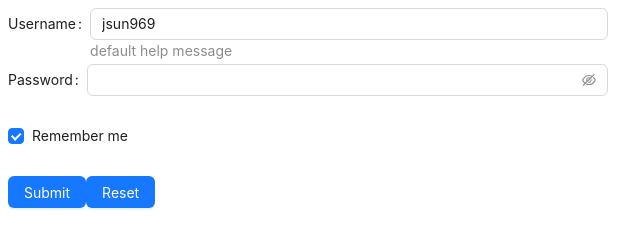
Test: Form › should show error message when username is too long
Type "looooooooooooooooong" into the field labelled "Username" at (349, 24), box [90, 8, 608, 40]
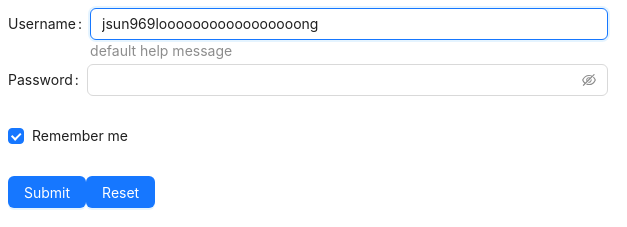
Click the button "Submit" at (47, 192), box [8, 176, 86, 208]
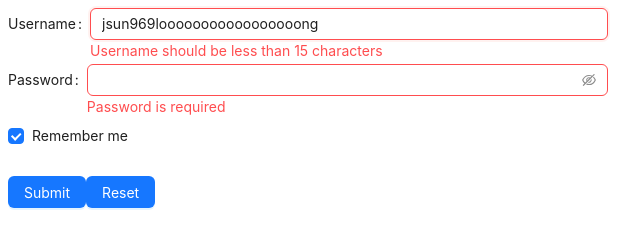
Result: the element with test id "username-field" shows "Username should be less than 15 characters" at [90, 42, 383, 59]
